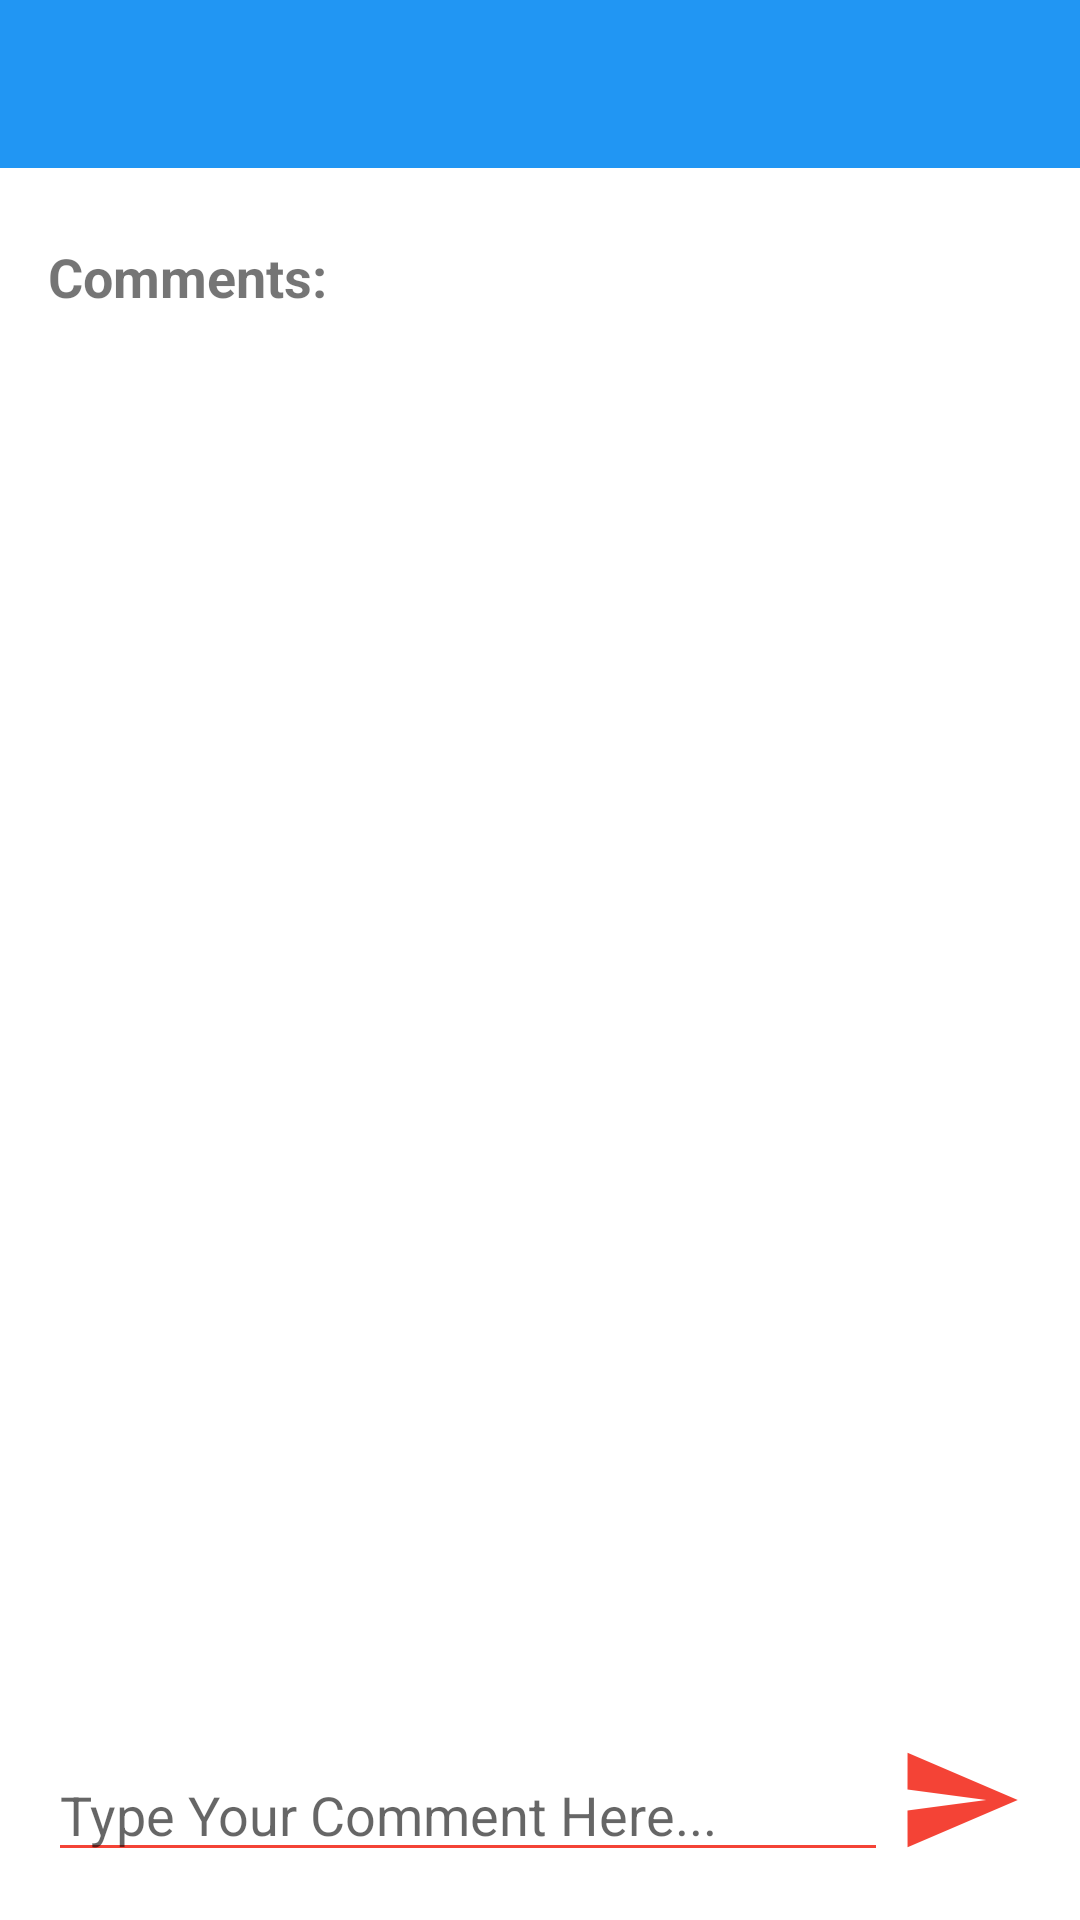

Screen size 1080 × 1920. Icon name, then its center in pixels as [x,y]:
send: [962,1800]
